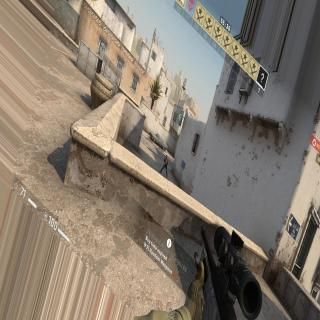T-Body: (161, 155, 168, 174)
T-Head: (166, 154, 167, 158)
